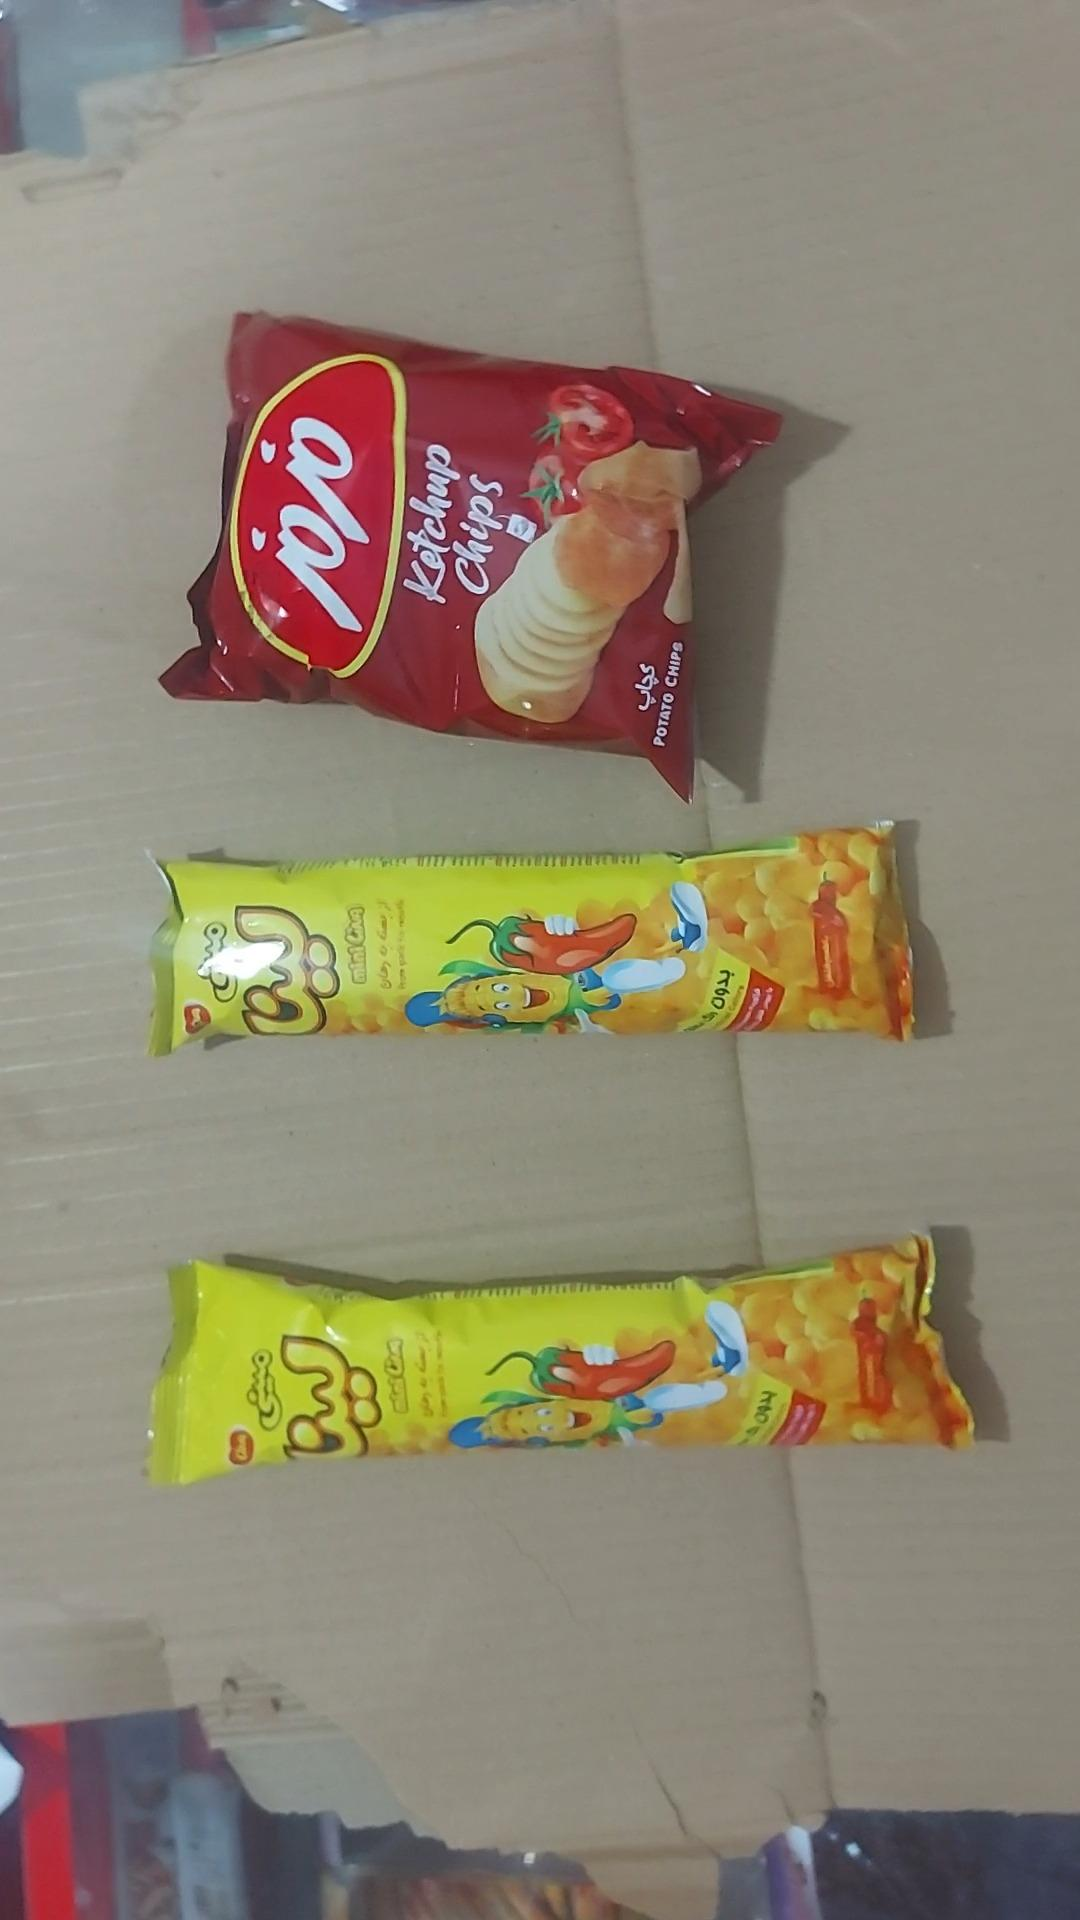Maz Maz ketchup chips: (161, 315, 779, 798)
Mini Lina: (146, 1238, 973, 1484), (149, 825, 913, 1055)
